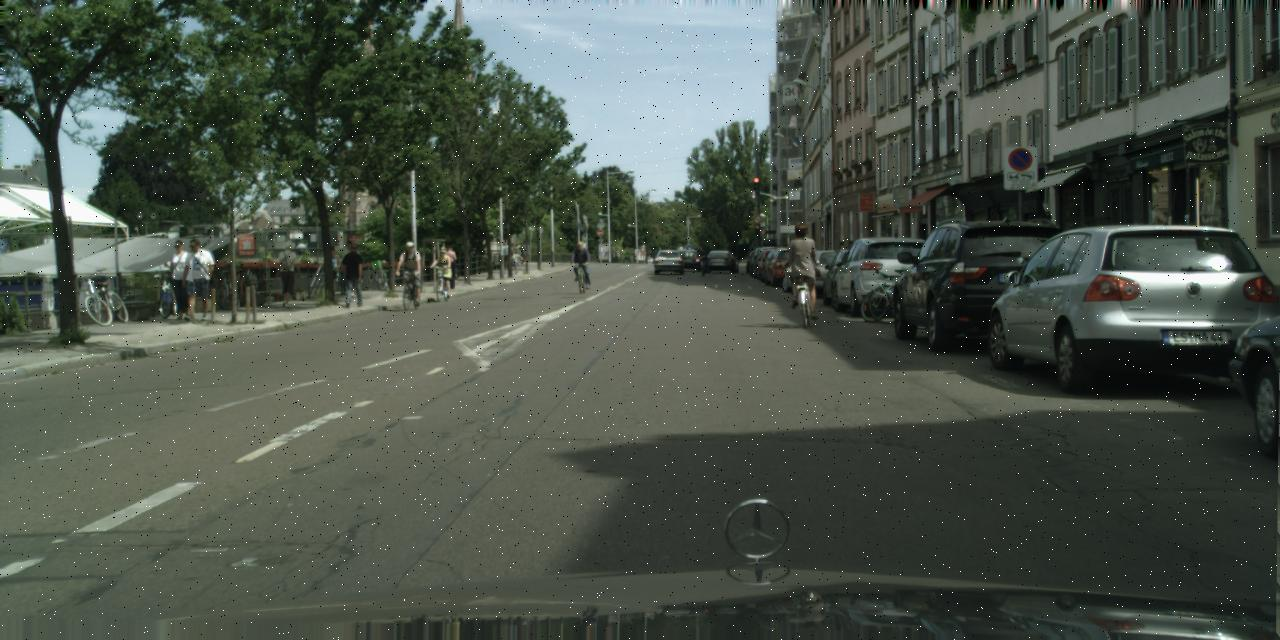ped: (784, 221, 822, 314), (164, 240, 197, 320), (179, 239, 212, 319), (272, 238, 300, 308), (341, 242, 367, 307), (398, 240, 422, 300), (338, 240, 360, 294), (321, 246, 342, 296), (433, 246, 453, 296), (572, 240, 590, 286), (441, 246, 458, 288), (497, 242, 510, 273), (698, 246, 709, 276), (519, 240, 529, 264), (508, 252, 517, 272), (650, 247, 656, 262), (614, 249, 619, 261)
